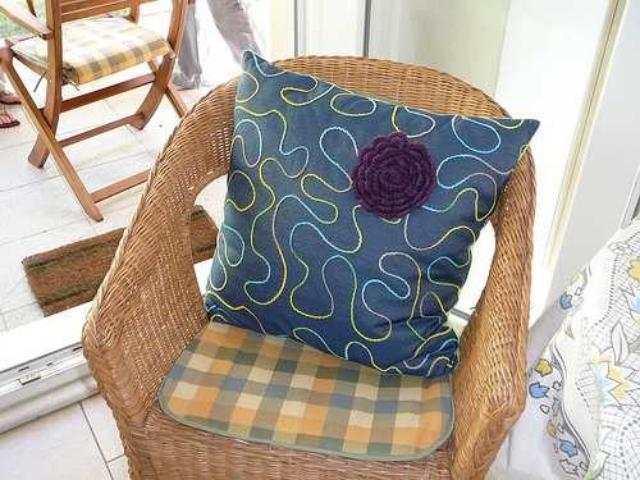pillow: (202, 49, 540, 377)
